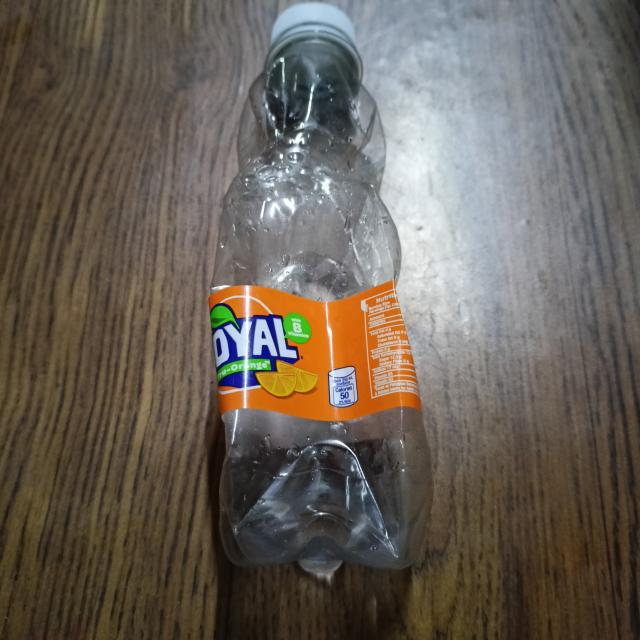Bottle: (208, 2, 431, 571)
